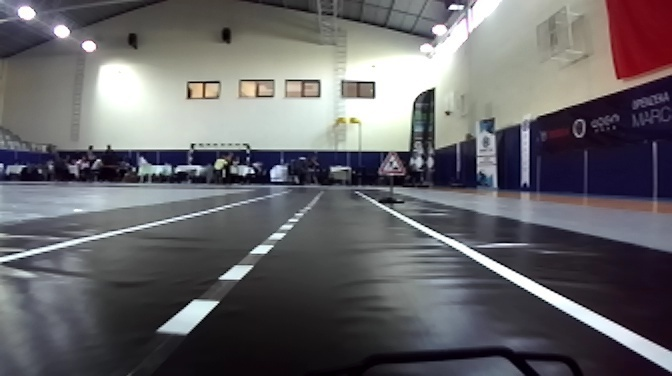yol_yapimi: (375, 150, 409, 176)
